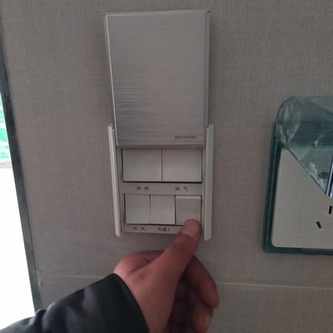switch: (160, 147, 204, 186), (119, 148, 166, 184), (172, 192, 206, 230), (122, 191, 154, 226), (147, 191, 178, 227)
